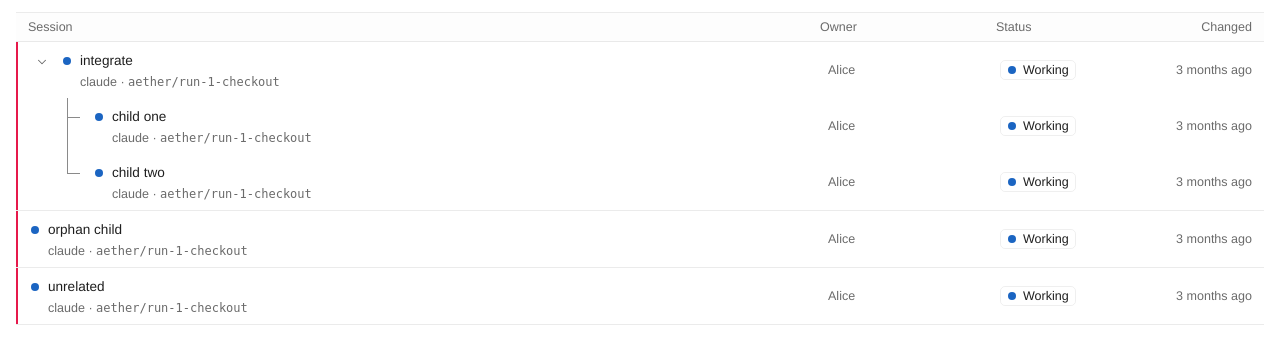
Test case: run list child runs › collapses and expands the child runs of one parent
Click the button named "Hide 2 subsessions" at (42, 62), box 30,50 -> 54,74
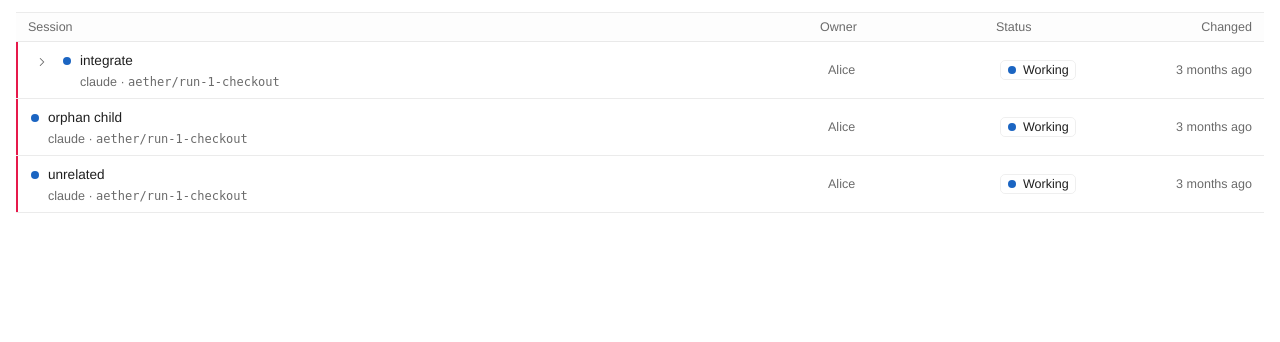
expect the 10th text "orphan child" is shown: met, box 48,109 -> 122,126
Click the button named "Show 2 subsessions" at (42, 62), box 30,50 -> 54,74
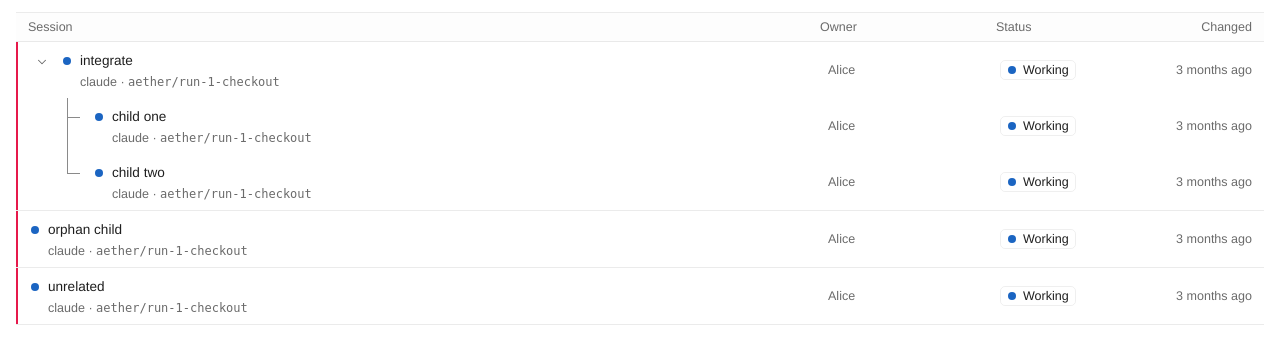
expect the list named "Subsessions of integrate" is shown: met, box 16,98 -> 1264,210
